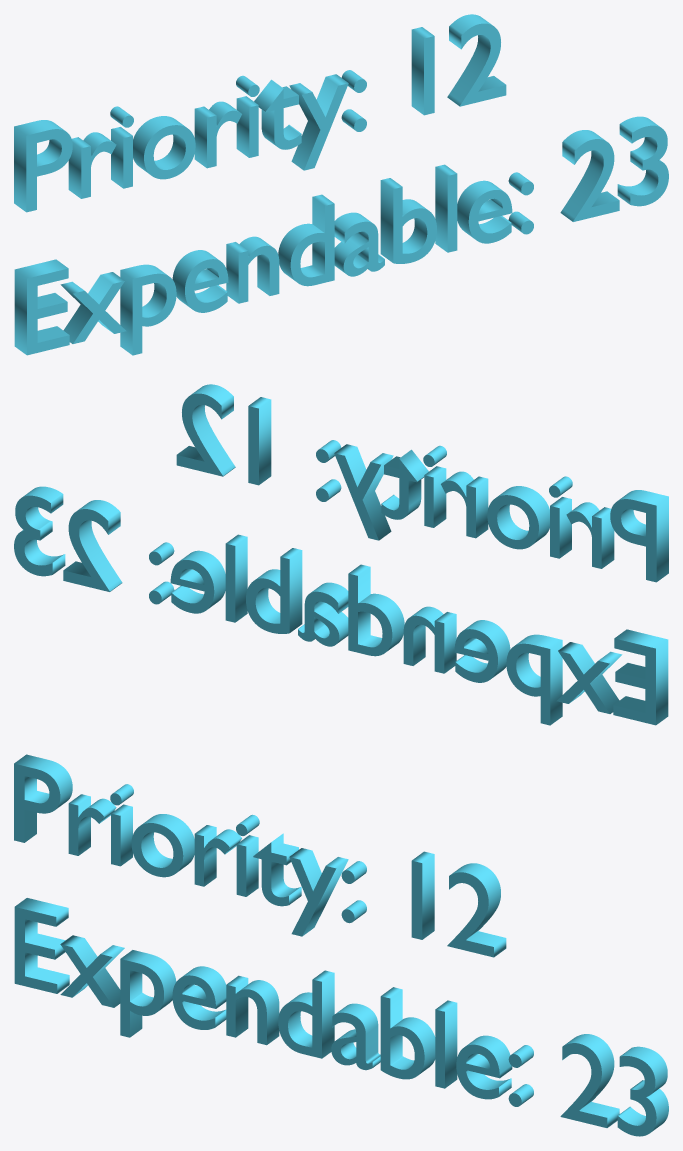
File: console_test_011_result.fbx
The picture shows the model from 3 angles, top to bottom: view 1: azimuth 30°, elevation 25°; view 2: azimuth 150°, elevation 25°; view 3: azimuth 330°, elevation 25°; orthographic projection.
Visible parts, largest first — view 1: Txt_Test_01.044, Txt_Test_01.045; view 2: Txt_Test_01.044, Txt_Test_01.045; view 3: Txt_Test_01.044, Txt_Test_01.045.
Boxes of the visible parts, <box> form: Txt_Test_01.044: <box>14,116,668,355</box>; Txt_Test_01.045: <box>14,14,506,212</box>; Txt_Test_01.044: <box>14,486,668,725</box>; Txt_Test_01.045: <box>176,384,668,582</box>; Txt_Test_01.044: <box>14,898,668,1136</box>; Txt_Test_01.045: <box>14,754,506,957</box>.
Bounding box in the file's own units: 0.8046 × 0.2955 × 0.027.
